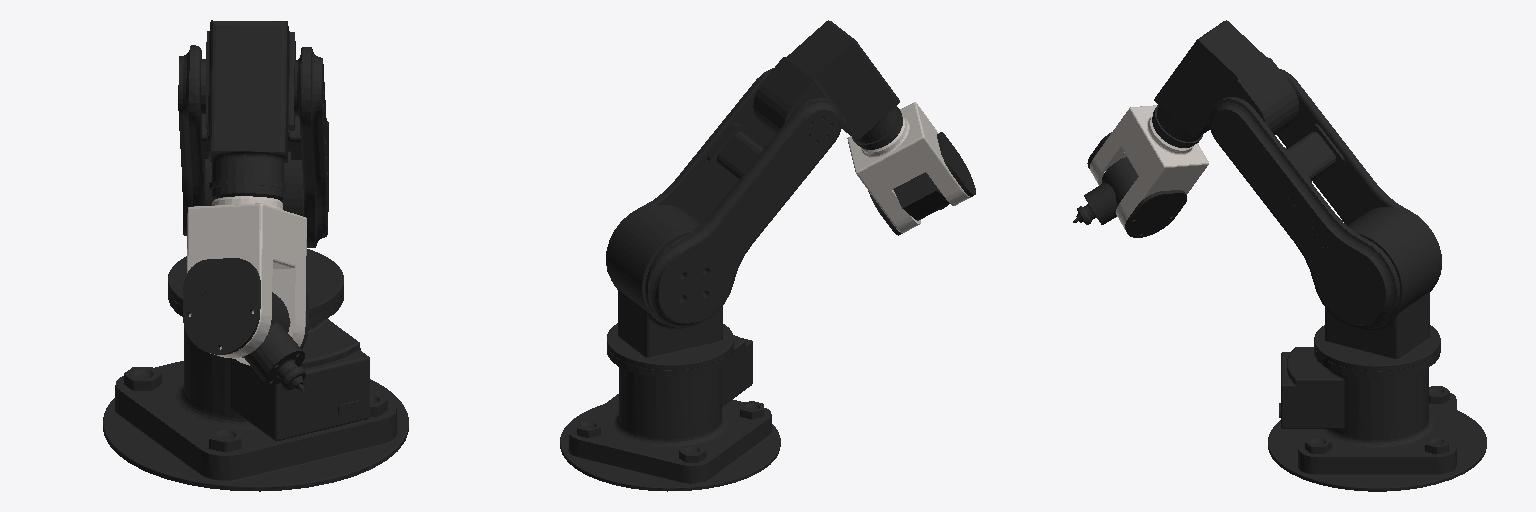
robot.urdf — 4 DOF Robotic Arm:
<?xml version="1.0" encoding="utf-8"?>
<!-- This URDF was automatically created by SolidWorks to URDF Exporter! Originally created by [author] ([email redacted]) 
     Commit Version: 1.6.0-4-g7f85cfe  Build Version: 1.6.7995.38578
     For more information, please see http://wiki.ros.org/sw_urdf_exporter -->
<robot
  name="4 DOF Robotic Arm">
  <link
    name="base_link">
    <inertial>
      <origin
        xyz="0.29810991020575 0.256733185763736 0.495051962035684"
        rpy="0 0 0" />
      <mass
        value="20.0560151281982" />
      <inertia
        ixx="0.424863354770225"
        ixy="-9.2104773222781E-06"
        ixz="-6.80764611103073E-05"
        iyy="0.499123897504905"
        iyz="-0.0409894080355028"
        izz="0.340254550268981" />
    </inertial>
    <visual>
      <origin
        xyz="0 0 0"
        rpy="0 0 0" />
      <geometry>
        <mesh
          filename="package://4 DOF Robotic Arm/meshes/base_link.STL" />
      </geometry>
      <material
        name="">
        <color
          rgba="0.2 0.2 0.2 1" />
      </material>
    </visual>
    <collision>
      <origin
        xyz="0 0 0"
        rpy="0 0 0" />
      <geometry>
        <mesh
          filename="package://4 DOF Robotic Arm/meshes/base_link.STL" />
      </geometry>
    </collision>
  </link>
  <link
    name="codo1">
    <inertial>
      <origin
        xyz="-1.5660493457581E-09 0.213076911762192 -5.55111512312578E-17"
        rpy="0 0 0" />
      <mass
        value="14.5226439803687" />
      <inertia
        ixx="0.281388271542566"
        ixy="-7.46899828429622E-09"
        ixz="1.72288813632404E-08"
        iyy="0.109543792726925"
        iyz="1.72112545802295E-16"
        izz="0.30803827090323" />
    </inertial>
    <visual>
      <origin
        xyz="0 0 0"
        rpy="0 0 0" />
      <geometry>
        <mesh
          filename="package://4 DOF Robotic Arm/meshes/codo1.STL" />
      </geometry>
      <material
        name="">
        <color
          rgba="0.2 0.2 0.2 1" />
      </material>
    </visual>
    <collision>
      <origin
        xyz="0 0 0"
        rpy="0 0 0" />
      <geometry>
        <mesh
          filename="package://4 DOF Robotic Arm/meshes/codo1.STL" />
      </geometry>
    </collision>
  </link>
  <joint
    name="codo1_joint"
    type="continuous">
    <origin
      xyz="0.298094132392334 -0.463705966908052 0.323519483592205"
      rpy="1.5707963267949 0 1.02161237501423" />
    <parent
      link="base_link" />
    <child
      link="codo1" />
    <axis
      xyz="0 1 0" />
  </joint>
  <link
    name="codo2">
    <inertial>
      <origin
        xyz="-1.59822018619415E-07 0.198943961809013 -3.91556086423162E-05"
        rpy="0 0 0" />
      <mass
        value="14.7860900538044" />
      <inertia
        ixx="0.648573491392559"
        ixy="9.47841748699663E-08"
        ixz="-2.08387553601863E-07"
        iyy="0.0776047142125779"
        iyz="-0.00599169952336004"
        izz="0.624351869580618" />
    </inertial>
    <visual>
      <origin
        xyz="0 0 0"
        rpy="0 0 0" />
      <geometry>
        <mesh
          filename="package://4 DOF Robotic Arm/meshes/codo2.STL" />
      </geometry>
      <material
        name="">
        <color
          rgba="0.2 0.2 0.2 1" />
      </material>
    </visual>
    <collision>
      <origin
        xyz="0 0 0"
        rpy="0 0 0" />
      <geometry>
        <mesh
          filename="package://4 DOF Robotic Arm/meshes/codo2.STL" />
      </geometry>
    </collision>
  </link>
  <joint
    name="codo2_joint"
    type="continuous">
    <origin
      xyz="0 0.336 0"
      rpy="-3.14159265358979 0 -2.34321163045072" />
    <parent
      link="codo1" />
    <child
      link="codo2" />
    <axis
      xyz="0 0 1" />
  </joint>
  <link
    name="codo3">
    <inertial>
      <origin
        xyz="0.032583276380147 0.10809919971837 3.36562252511996E-08"
        rpy="0 0 0" />
      <mass
        value="7.81062225868975" />
      <inertia
        ixx="0.0572109198550227"
        ixy="-0.0101696176067118"
        ixz="-1.51529386781257E-09"
        iyy="0.0613284358736977"
        iyz="-2.30215332110151E-08"
        izz="0.0913511740371457" />
    </inertial>
    <visual>
      <origin
        xyz="0 0 0"
        rpy="0 0 0" />
      <geometry>
        <mesh
          filename="package://4 DOF Robotic Arm/meshes/codo3.STL" />
      </geometry>
      <material
        name="">
        <color
          rgba="0.2 0.2 0.2 1" />
      </material>
    </visual>
    <collision>
      <origin
        xyz="0 0 0"
        rpy="0 0 0" />
      <geometry>
        <mesh
          filename="package://4 DOF Robotic Arm/meshes/codo3.STL" />
      </geometry>
    </collision>
  </link>
  <joint
    name="codo3_joint"
    type="continuous">
    <origin
      xyz="0 0.499999999999997 0"
      rpy="0 0 -0.198498030644397" />
    <parent
      link="codo2" />
    <child
      link="codo3" />
    <axis
      xyz="0 0 1" />
  </joint>
  <link
    name="codo4">
    <inertial>
      <origin
        xyz="0.108182194926982 -7.70846603848074E-06 -1.11022302462516E-16"
        rpy="0 0 0" />
      <mass
        value="5.14222343811042" />
      <inertia
        ixx="0.0291243842600355"
        ixy="8.26016054656514E-07"
        ixz="0"
        iyy="0.0483771554852105"
        iyz="-6.07153216591882E-18"
        izz="0.0383609598792745" />
    </inertial>
    <visual>
      <origin
        xyz="0 0 0"
        rpy="0 0 0" />
      <geometry>
        <mesh
          filename="package://4 DOF Robotic Arm/meshes/codo4.STL" />
      </geometry>
      <material
        name="">
        <color
          rgba="0.776470588235294 0.756862745098039 0.737254901960784 1" />
      </material>
    </visual>
    <collision>
      <origin
        xyz="0 0 0"
        rpy="0 0 0" />
      <geometry>
        <mesh
          filename="package://4 DOF Robotic Arm/meshes/codo4.STL" />
      </geometry>
    </collision>
  </link>
  <joint
    name="codo4_joint"
    type="continuous">
    <origin
      xyz="0.217298151168251 0.145000000000007 0"
      rpy="-1.16289184952218 0 0" />
    <parent
      link="codo3" />
    <child
      link="codo4" />
    <axis
      xyz="1 0 0" />
  </joint>
  <link
    name="codo5">
    <inertial>
      <origin
        xyz="0.0015080108101535 0.00147848765713465 1.17908454111415E-08"
        rpy="0 0 0" />
      <mass
        value="3.39993707597979" />
      <inertia
        ixx="0.0127520011304052"
        ixy="0.000127390375987125"
        ixz="-0.000273689761827018"
        iyy="0.0188035148432044"
        iyz="0.000243247381685449"
        izz="0.0126702333978519" />
    </inertial>
    <visual>
      <origin
        xyz="0 0 0"
        rpy="0 0 0" />
      <geometry>
        <mesh
          filename="package://4 DOF Robotic Arm/meshes/codo5.STL" />
      </geometry>
      <material
        name="">
        <color
          rgba="0.2 0.2 0.2 1" />
      </material>
    </visual>
    <collision>
      <origin
        xyz="0 0 0"
        rpy="0 0 0" />
      <geometry>
        <mesh
          filename="package://4 DOF Robotic Arm/meshes/codo5.STL" />
      </geometry>
    </collision>
  </link>
  <joint
    name="codo5_joint"
    type="continuous">
    <origin
      xyz="0.230144683333081 0 0"
      rpy="0 0 0.726588237519581" />
    <parent
      link="codo4" />
    <child
      link="codo5" />
    <axis
      xyz="0 0 1" />
  </joint>
</robot>

--- Facts derived from the render (not from the file) ---
3 views of the same robot in one strip: view 1: azimuth 30°, elevation 25°; view 2: azimuth 150°, elevation 25°; view 3: azimuth 270°, elevation 25° (orthographic).
Model 4 DOF Robotic Arm with 6 links and 5 joints (5 continuous), rooted at base_link, posed every joint at zero.
Links seen in each view (by area): view 1: base_link, codo3, codo4, codo2, codo5, codo1; view 2: codo2, base_link, codo1, codo3, codo4, codo5; view 3: base_link, codo2, codo1, codo3, codo4, codo5.
Boxes of the visible links, x1=… form: base_link: x1=103, y1=291, x2=408, y2=491; codo3: x1=205, y1=20, x2=295, y2=200; codo4: x1=187, y1=196, x2=306, y2=365; codo2: x1=178, y1=45, x2=328, y2=247; codo5: x1=183, y1=258, x2=308, y2=391; codo1: x1=168, y1=152, x2=343, y2=315; codo2: x1=606, y1=68, x2=842, y2=327; base_link: x1=560, y1=335, x2=780, y2=491; codo1: x1=607, y1=205, x2=733, y2=369; codo3: x1=753, y1=20, x2=902, y2=149; codo4: x1=847, y1=102, x2=970, y2=232; codo5: x1=868, y1=132, x2=975, y2=235; base_link: x1=1268, y1=346, x2=1486, y2=491; codo2: x1=1209, y1=69, x2=1441, y2=328; codo1: x1=1314, y1=207, x2=1440, y2=370; codo3: x1=1152, y1=20, x2=1298, y2=147; codo4: x1=1090, y1=105, x2=1208, y2=228; codo5: x1=1073, y1=132, x2=1186, y2=237.
Bounding box of the posed robot: 0.7866 × 1.05 × 1.04 m (x, y, z).
Meshes: 6 distinct files referenced, 6 mesh visuals loaded (6 binary STL).
